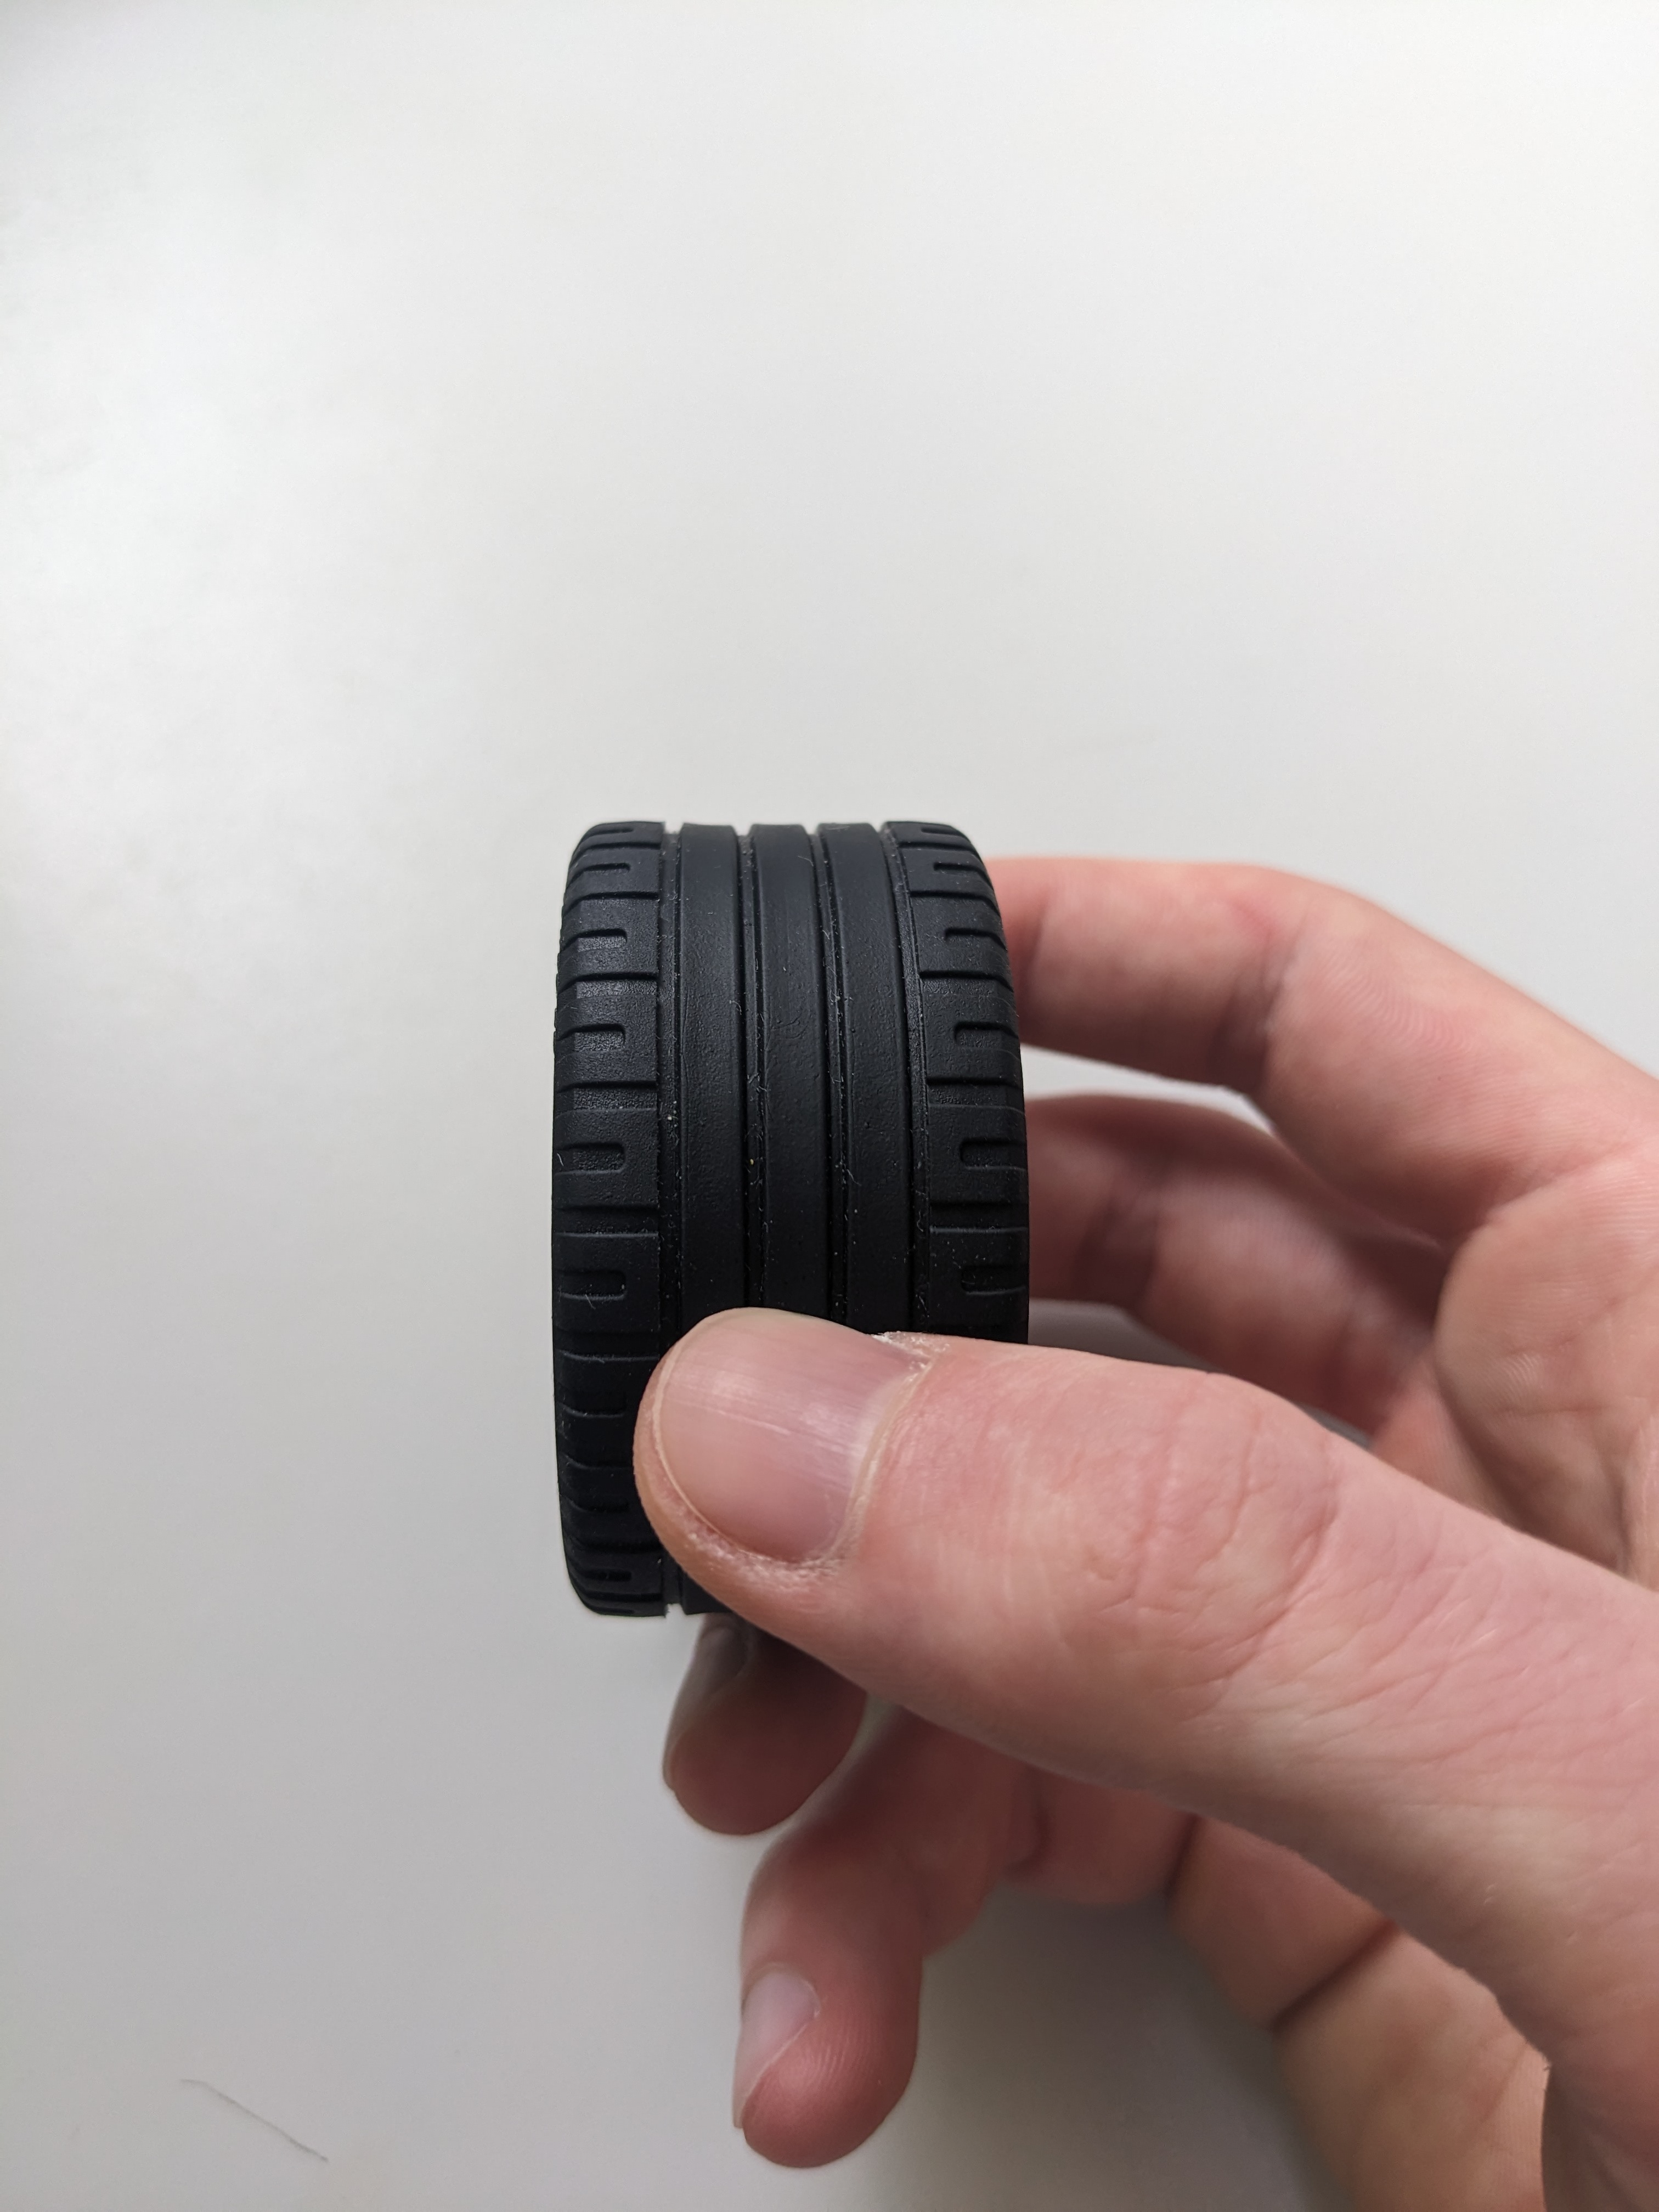Rad: (525, 806, 1066, 1644)
